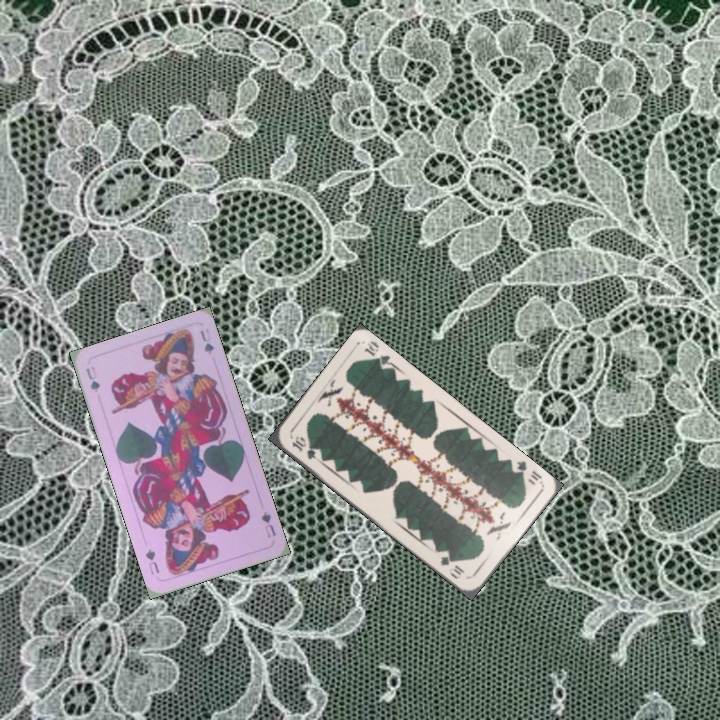G10: (507, 457, 545, 486), (288, 432, 322, 464)
GU: (257, 507, 279, 541), (82, 362, 103, 395)
